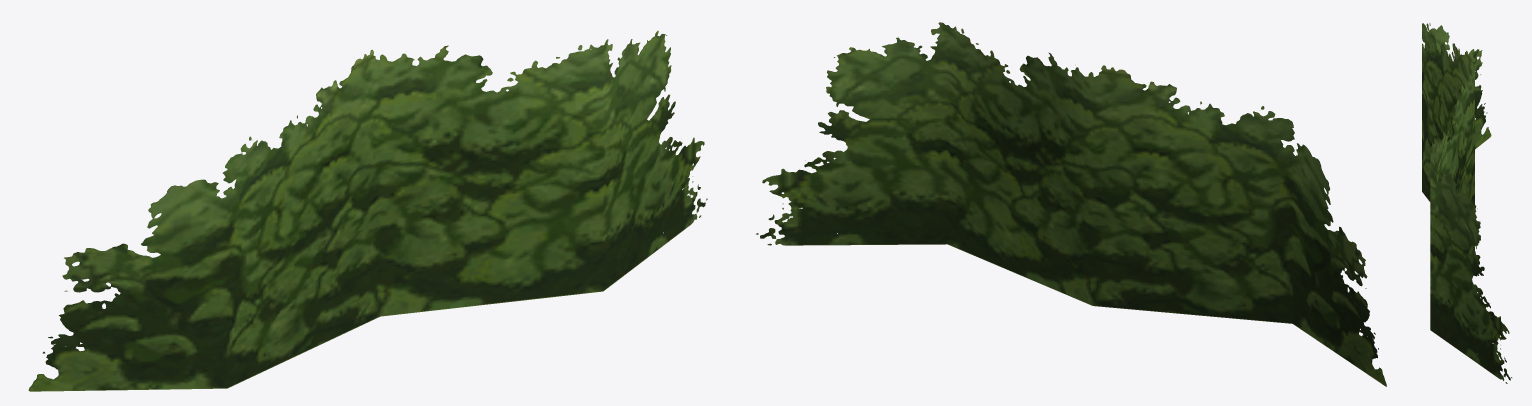
The model's file is SM_ENV_LKNVLD_FarTree_A.FBX.
3 views of the same model, side by side, from view 1: azimuth 30°, elevation 25°; view 2: azimuth 150°, elevation 25°; view 3: azimuth 270°, elevation 25° (orthographic). The views are drawn at different scales.
Parts seen in each view (by area): view 1: SM_ENV_LKNVLD_FarTree_A; view 2: SM_ENV_LKNVLD_FarTree_A; view 3: SM_ENV_LKNVLD_FarTree_A.
Part boxes in pixels (x1,y1,x2,y2): SM_ENV_LKNVLD_FarTree_A: (28, 30, 707, 391); SM_ENV_LKNVLD_FarTree_A: (756, 22, 1386, 386); SM_ENV_LKNVLD_FarTree_A: (1422, 23, 1511, 383).
Bounding box in the file's own units: 5836 × 2200 × 911.
